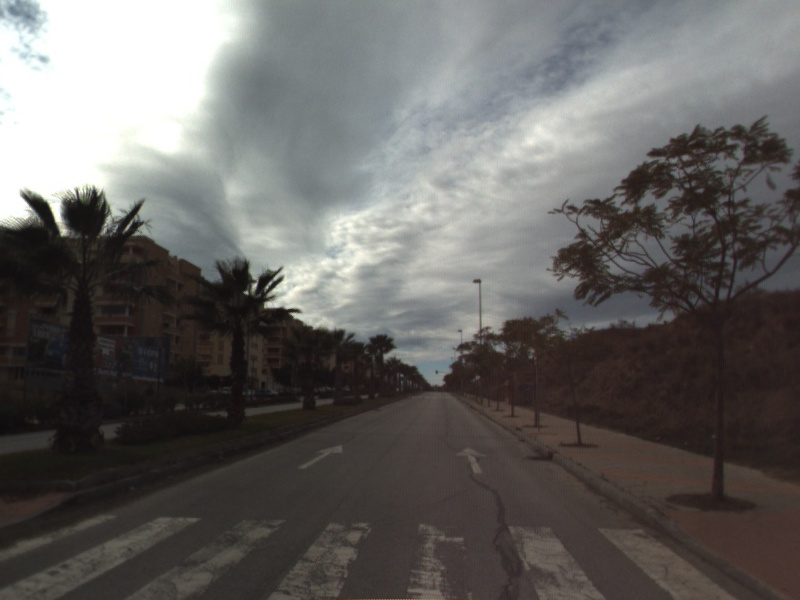STRAIGHT: (296, 443, 344, 471), (454, 444, 490, 476)
